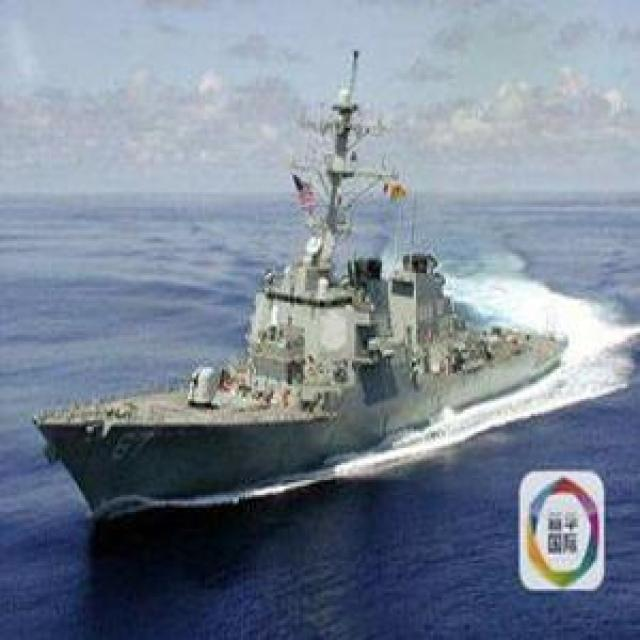navalvessels: (28, 41, 560, 522)
